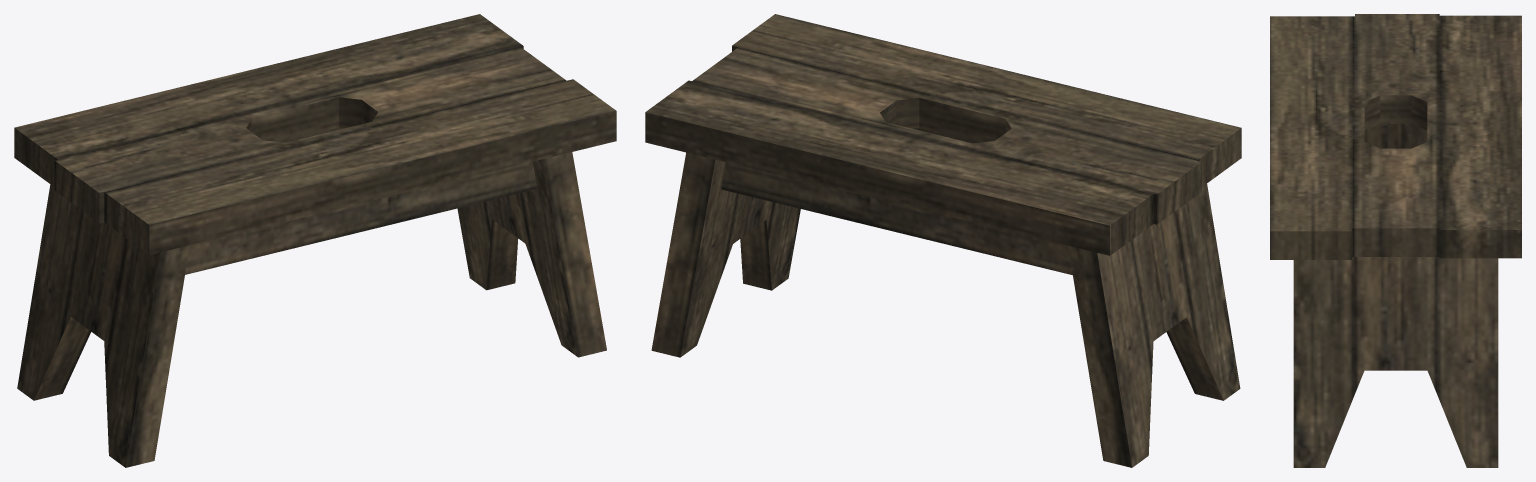
The model's file is stool_mx_1_1.dae.
3 renders of one model, left to right at view 1: azimuth 30°, elevation 25°; view 2: azimuth 150°, elevation 25°; view 3: azimuth 270°, elevation 25°, orthographic. The views are drawn at different scales.
Visible parts, largest first — view 1: stool_mx_1_1; view 2: stool_mx_1_1; view 3: stool_mx_1_1.
Boxes of the visible parts, <box> form: stool_mx_1_1: <box>14,14,616,467</box>; stool_mx_1_1: <box>645,14,1241,467</box>; stool_mx_1_1: <box>1270,14,1521,467</box>.
Size of the model in its own units: 0.6665 by 0.32 by 0.33.
1 material, 1 textured.
